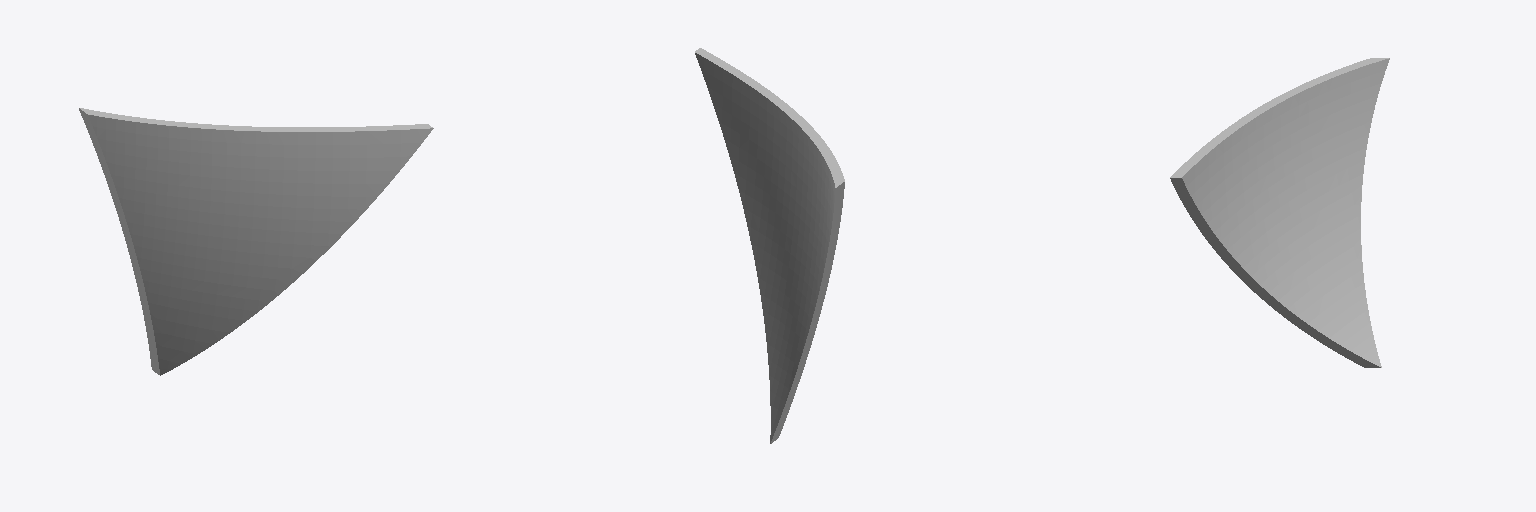
The model's file is Body3.obj.
3 renders of one model, left to right at view 1: azimuth 30°, elevation 25°; view 2: azimuth 150°, elevation 25°; view 3: azimuth 270°, elevation 25°, orthographic.
Parts seen in each view (by area): view 1: Body3; view 2: Body3; view 3: Body3.
Boxes of the visible parts, box(x1,y1,x2,y2) form: Body3: box(79, 108, 433, 375); Body3: box(695, 48, 844, 443); Body3: box(1170, 58, 1389, 367).
Bounding box in the file's own units: 0.509 × 0.5474 × 0.396.